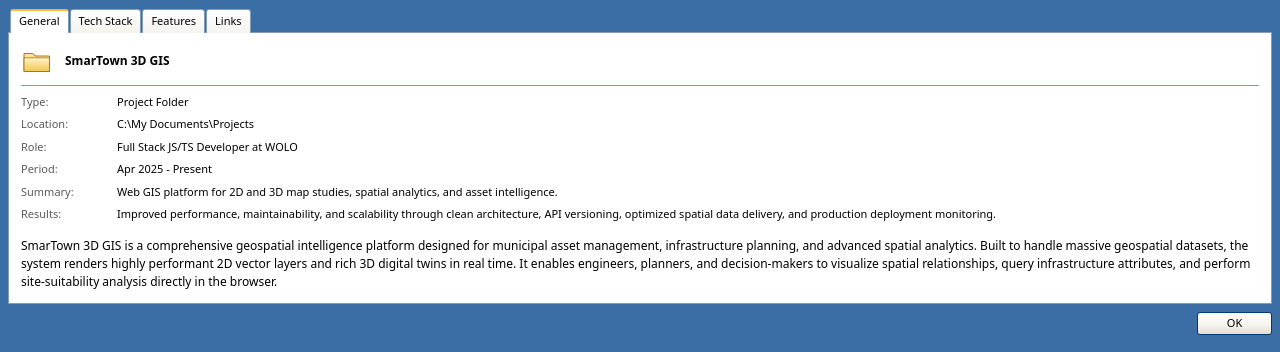
Properties › shows project tabs with stack and honest link states
This screenshot has width=1280, height=352.
Expected: the text "Web GIS platform for 2D and 3D map studies, spatial analytics, and asset intelligence." is shown, x1=117 y1=184 x2=558 y2=198
What coordinates should you click on to do the following:
click the tab "Tech Stack"
I would click on:
 (105, 21)
Its box is x1=70 y1=9 x2=141 y2=32.
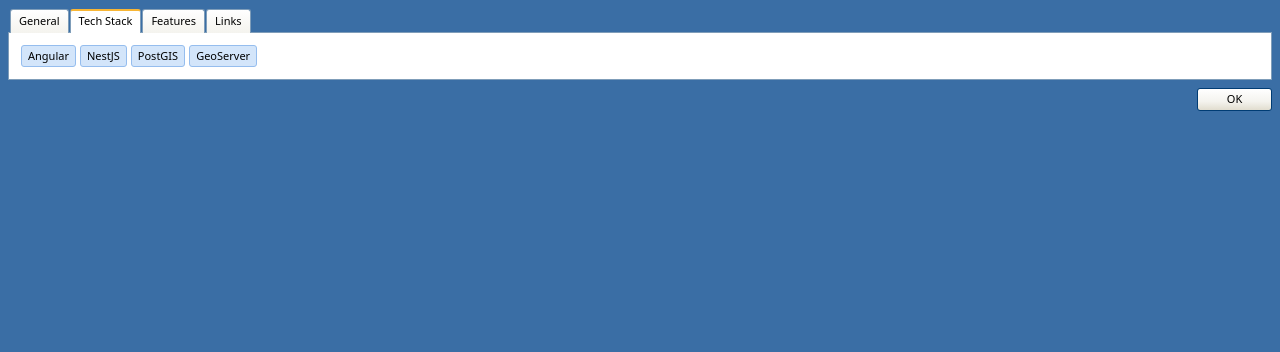
Now the list item "Angular" is shown, box x1=21 y1=44 x2=76 y2=67
What coordinates should you click on to do the following:
click the tab "Links"
I would click on:
 (228, 21)
Its box is x1=206 y1=9 x2=250 y2=32.
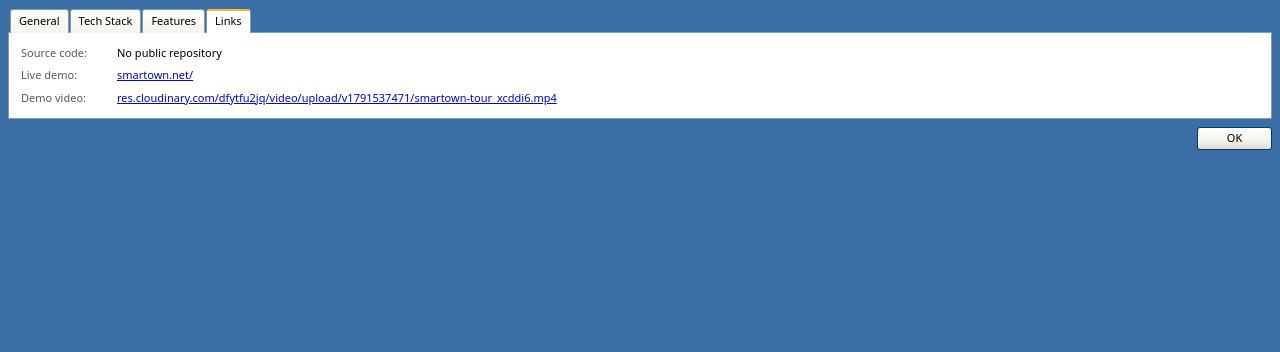
Now the text "No public repository" is shown, box x1=117 y1=44 x2=222 y2=60
